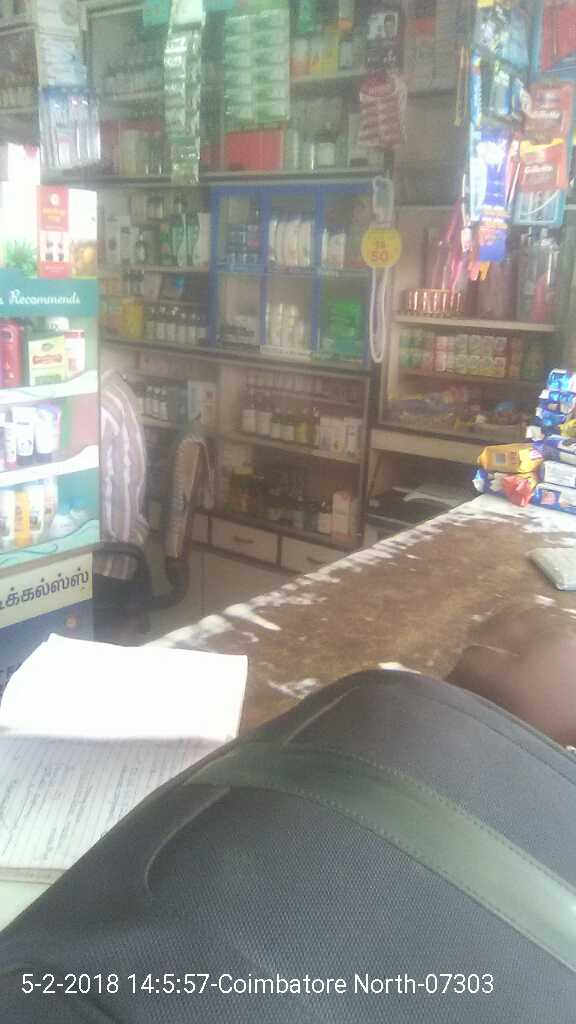vicks: (216, 201, 274, 276)
